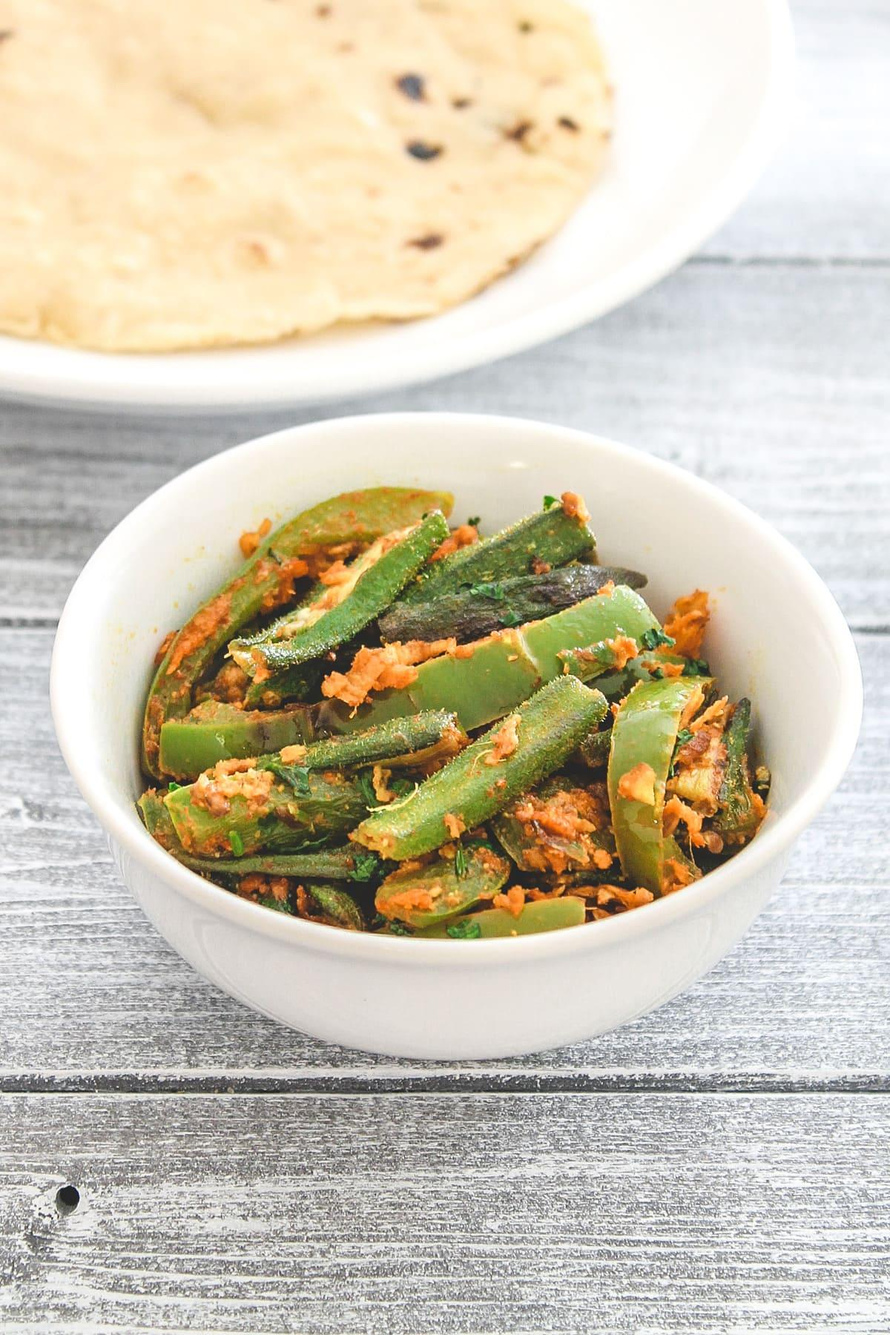bhindi: (194, 532, 727, 883)
roti phulka: (1, 0, 569, 302)
